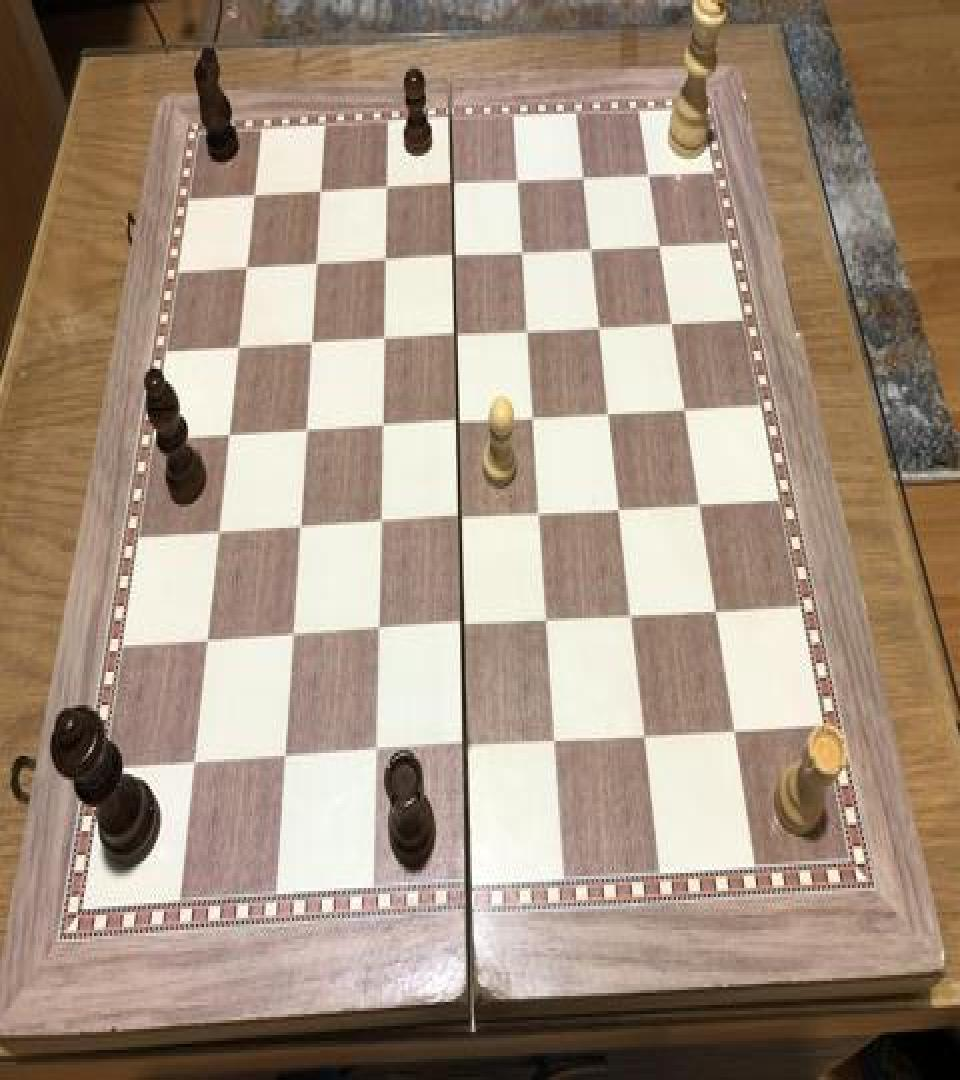xcorner: (704, 595, 728, 632), (619, 601, 643, 638), (364, 616, 388, 653), (278, 622, 302, 659), (542, 727, 566, 764), (452, 733, 476, 770), (637, 158, 661, 194), (571, 162, 595, 198), (505, 165, 529, 201), (439, 170, 463, 206), (306, 177, 330, 213), (240, 180, 264, 216), (647, 230, 671, 266), (579, 232, 603, 268), (510, 237, 534, 273), (441, 242, 465, 278), (371, 244, 395, 280), (302, 249, 326, 285), (232, 254, 256, 290), (660, 308, 684, 344), (587, 312, 611, 348), (515, 315, 539, 351), (442, 320, 466, 356), (370, 324, 394, 360), (224, 333, 248, 369), (673, 393, 697, 429), (597, 398, 621, 434), (521, 402, 545, 438), (444, 406, 468, 442), (368, 411, 392, 447), (291, 417, 315, 453), (214, 422, 238, 458), (688, 489, 712, 525), (607, 494, 631, 530), (527, 500, 551, 536), (447, 504, 471, 540), (366, 508, 390, 544), (285, 513, 309, 549), (204, 519, 228, 555), (534, 606, 558, 642), (449, 612, 473, 648), (192, 628, 216, 664), (722, 716, 746, 752), (633, 722, 657, 758), (361, 738, 385, 774), (270, 744, 294, 780), (179, 750, 203, 786), (373, 173, 397, 208), (297, 329, 321, 364)
